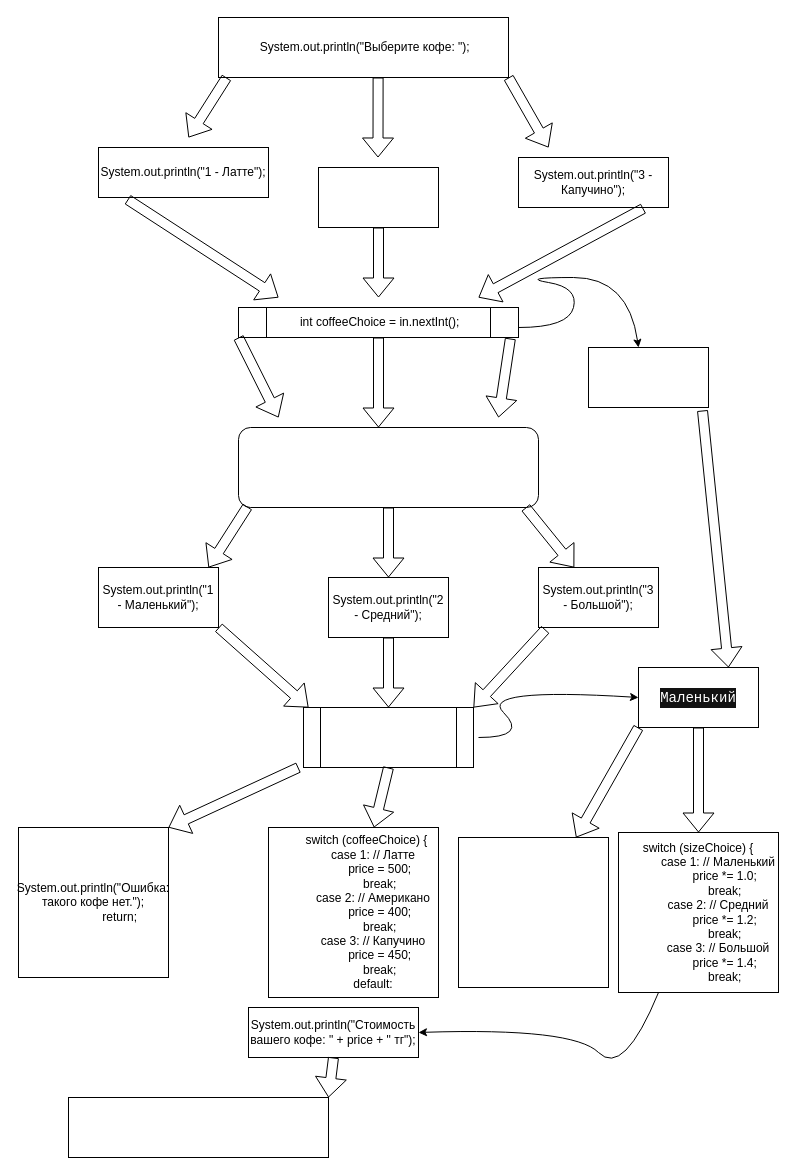
Some shapes in this 796 by 1175 pixel diagram are drawn without their labels. The shapes that lost their labels are listed below. From the top down, each one's box as (x1, y1, x2, y2) in pixels, then its label:
(318, 166, 438, 228): System.out.println("2 - Американо");
(588, 346, 708, 408): Капучино
(238, 426, 538, 508): System.out.println("Выберите размер: ");
(302, 706, 474, 768): int sizeChoice = in.nextInt();
(458, 836, 608, 988): default: System.out.println("Ошибка: такого размера нет."); return;
(68, 1096, 328, 1158): Стоимость вашего кофе: 450.0 тг
